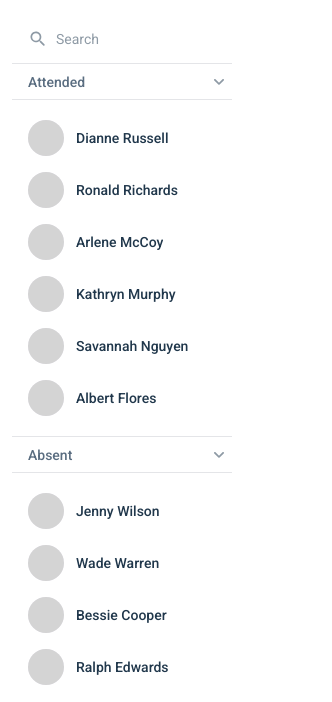
ContactList Component › filters contacts based on search input (startsWith)
The image size is (332, 702).
Search for 'R' (case-insensitive start)
Type "R" into the field with placeholder "Search".
click(122, 39); type("R")  # box [12,15,232,63]
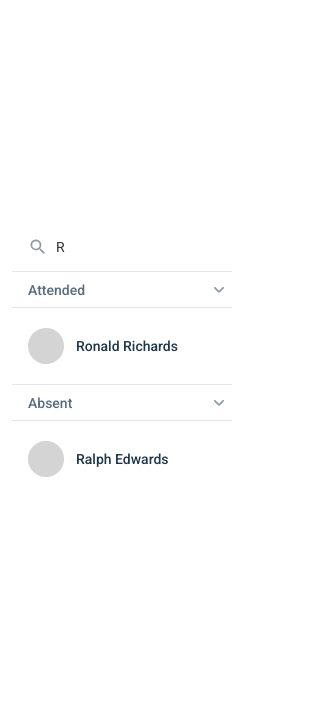
Expected: the text "Ronald Richards" is shown, [76,336,178,356]
Now the button "Dianne Russell" is gone
Now the button "Jenny Wilson" is gone
Clear search
Clear the field with placeholder "Search" at {"x": 122, "y": 247}, box [12,223,232,271]
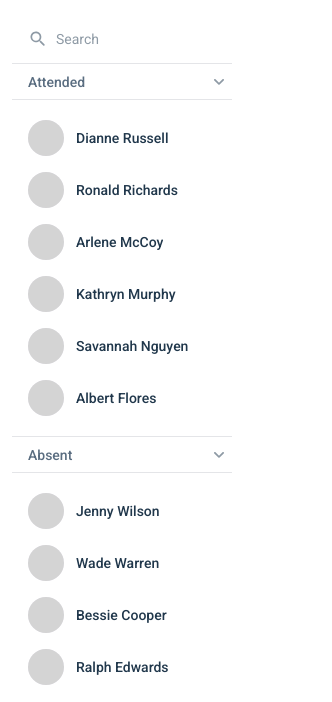
Now the text "Dianne Russell" is shown, box [76,128,168,148]
Now the text "Jenny Wilson" is shown, box [76,501,160,521]
